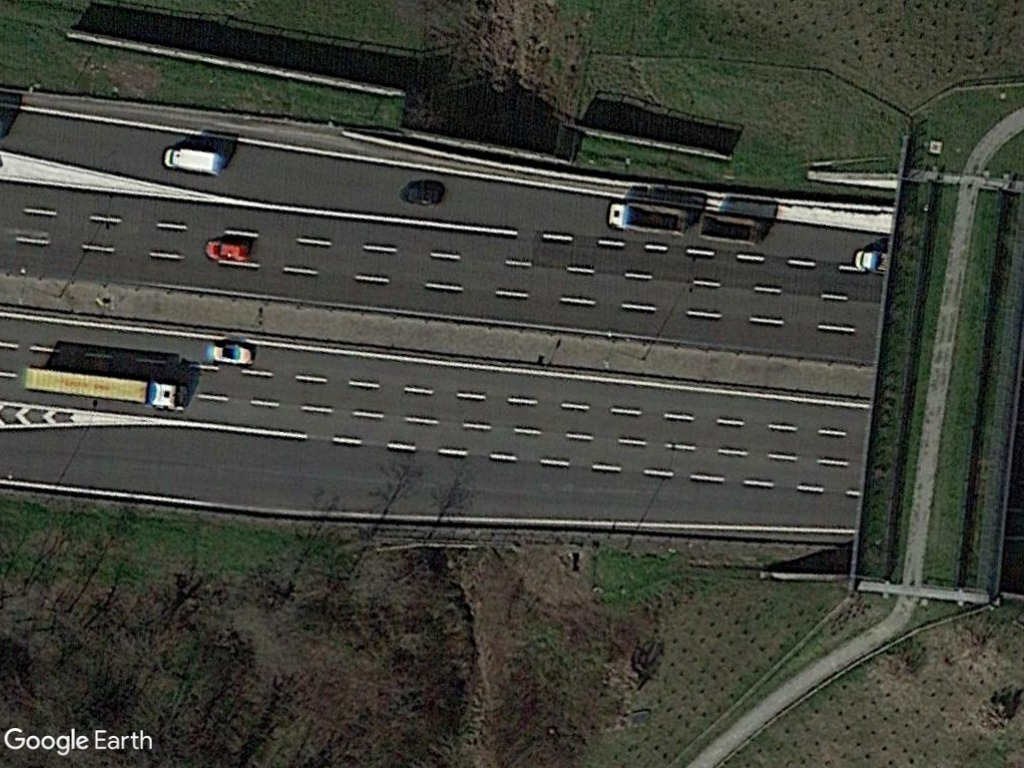car: (205, 342, 260, 367), (203, 237, 256, 262)
longvehicle: (19, 364, 191, 412)
other: (606, 200, 691, 238)
truck: (159, 145, 226, 176)
